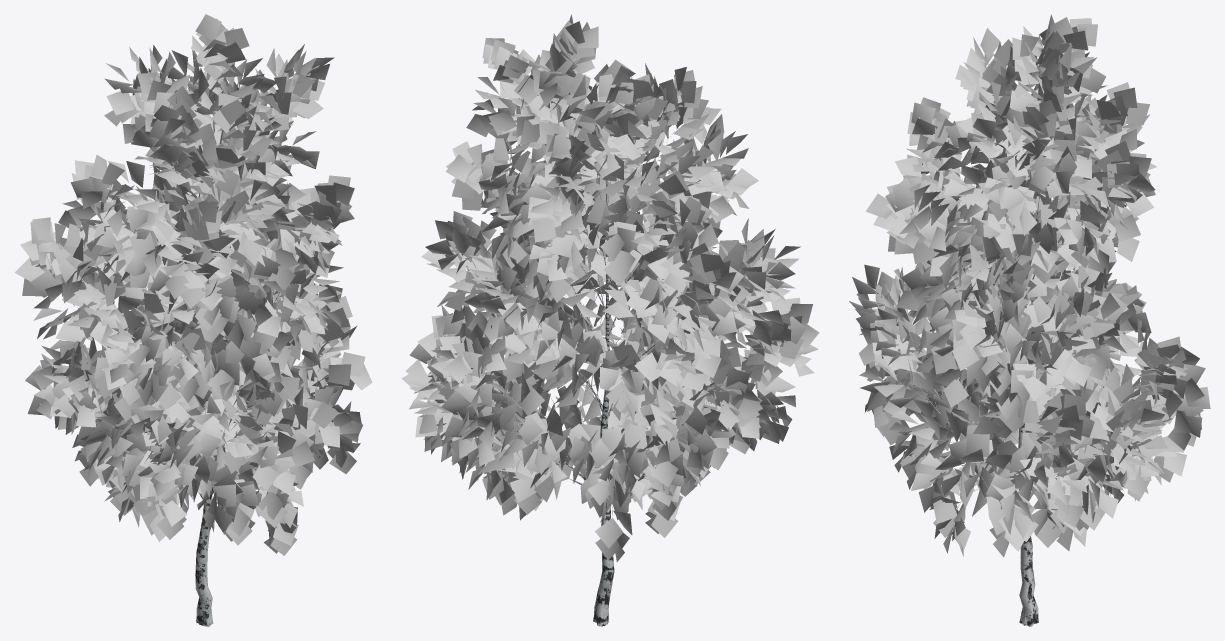
The model's file is 00734 _Birch 03.FBX.
The picture shows the model from 3 angles, left to right: view 1: azimuth 30°, elevation 25°; view 2: azimuth 150°, elevation 25°; view 3: azimuth 270°, elevation 25°; orthographic projection. The views are drawn at different scales.
Visible parts, largest first — view 1: 00734 _Birch 03; view 2: 00734 _Birch 03; view 3: 00734 _Birch 03.
Part boxes in pixels (x1,y1,x2,y2): 00734 _Birch 03: (14,14,372,626); 00734 _Birch 03: (401,14,819,626); 00734 _Birch 03: (849,14,1210,626).
Size of the model in its own units: 4.76 by 8.5 by 4.54.
